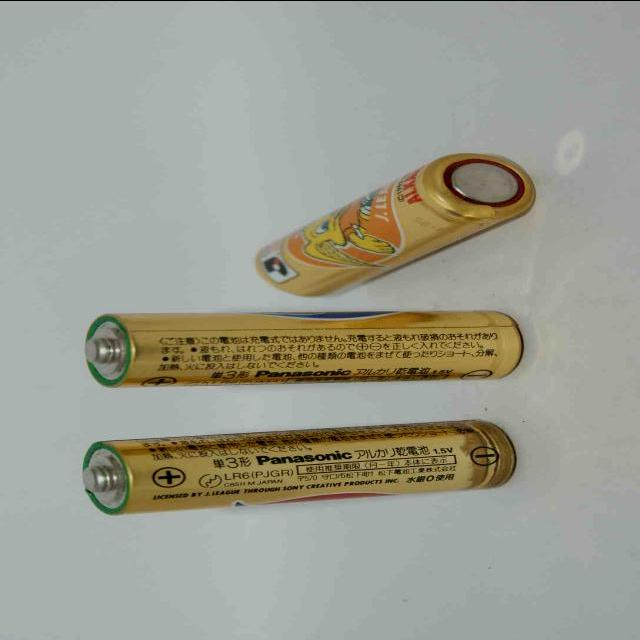AA: (250, 150, 538, 296)
AAA: (79, 413, 518, 516), (76, 304, 531, 390)
